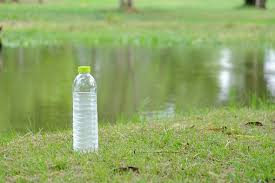plastic_bottle: (68, 66, 103, 157)
